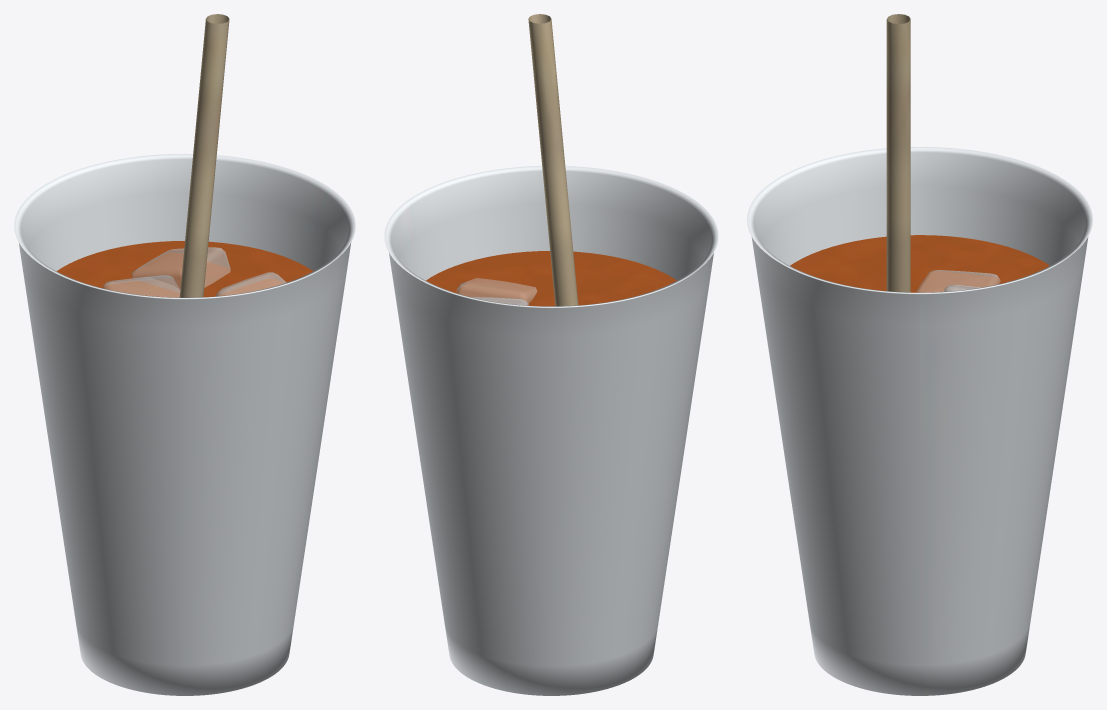
Rendered from iced-tea.glb.
3 renders of one model, left to right at view 1: azimuth 30°, elevation 25°; view 2: azimuth 150°, elevation 25°; view 3: azimuth 270°, elevation 25°, orthographic. The views are drawn at different scales.
Parts seen in each view (by area): view 1: clear, gloss, satin, ice; view 2: clear, gloss, satin, ice; view 3: clear, gloss, satin, ice.
Part boxes in pixels (left/top/right/bottom): clear: left=14, top=153, right=355, bottom=695; gloss: left=56, top=241, right=313, bottom=297; satin: left=179, top=14, right=229, bottom=297; ice: left=103, top=247, right=286, bottom=297; clear: left=384, top=166, right=718, bottom=695; gloss: left=426, top=251, right=676, bottom=306; satin: left=528, top=14, right=578, bottom=306; ice: left=456, top=278, right=536, bottom=305; clear: left=747, top=147, right=1092, bottom=695; gloss: left=790, top=235, right=1049, bottom=292; satin: left=886, top=14, right=910, bottom=292; ice: left=916, top=270, right=1000, bottom=292.
Bounding box in the file's own units: 0.098 × 0.201 × 0.098.
Materials: 4 (4 with a texture image).
